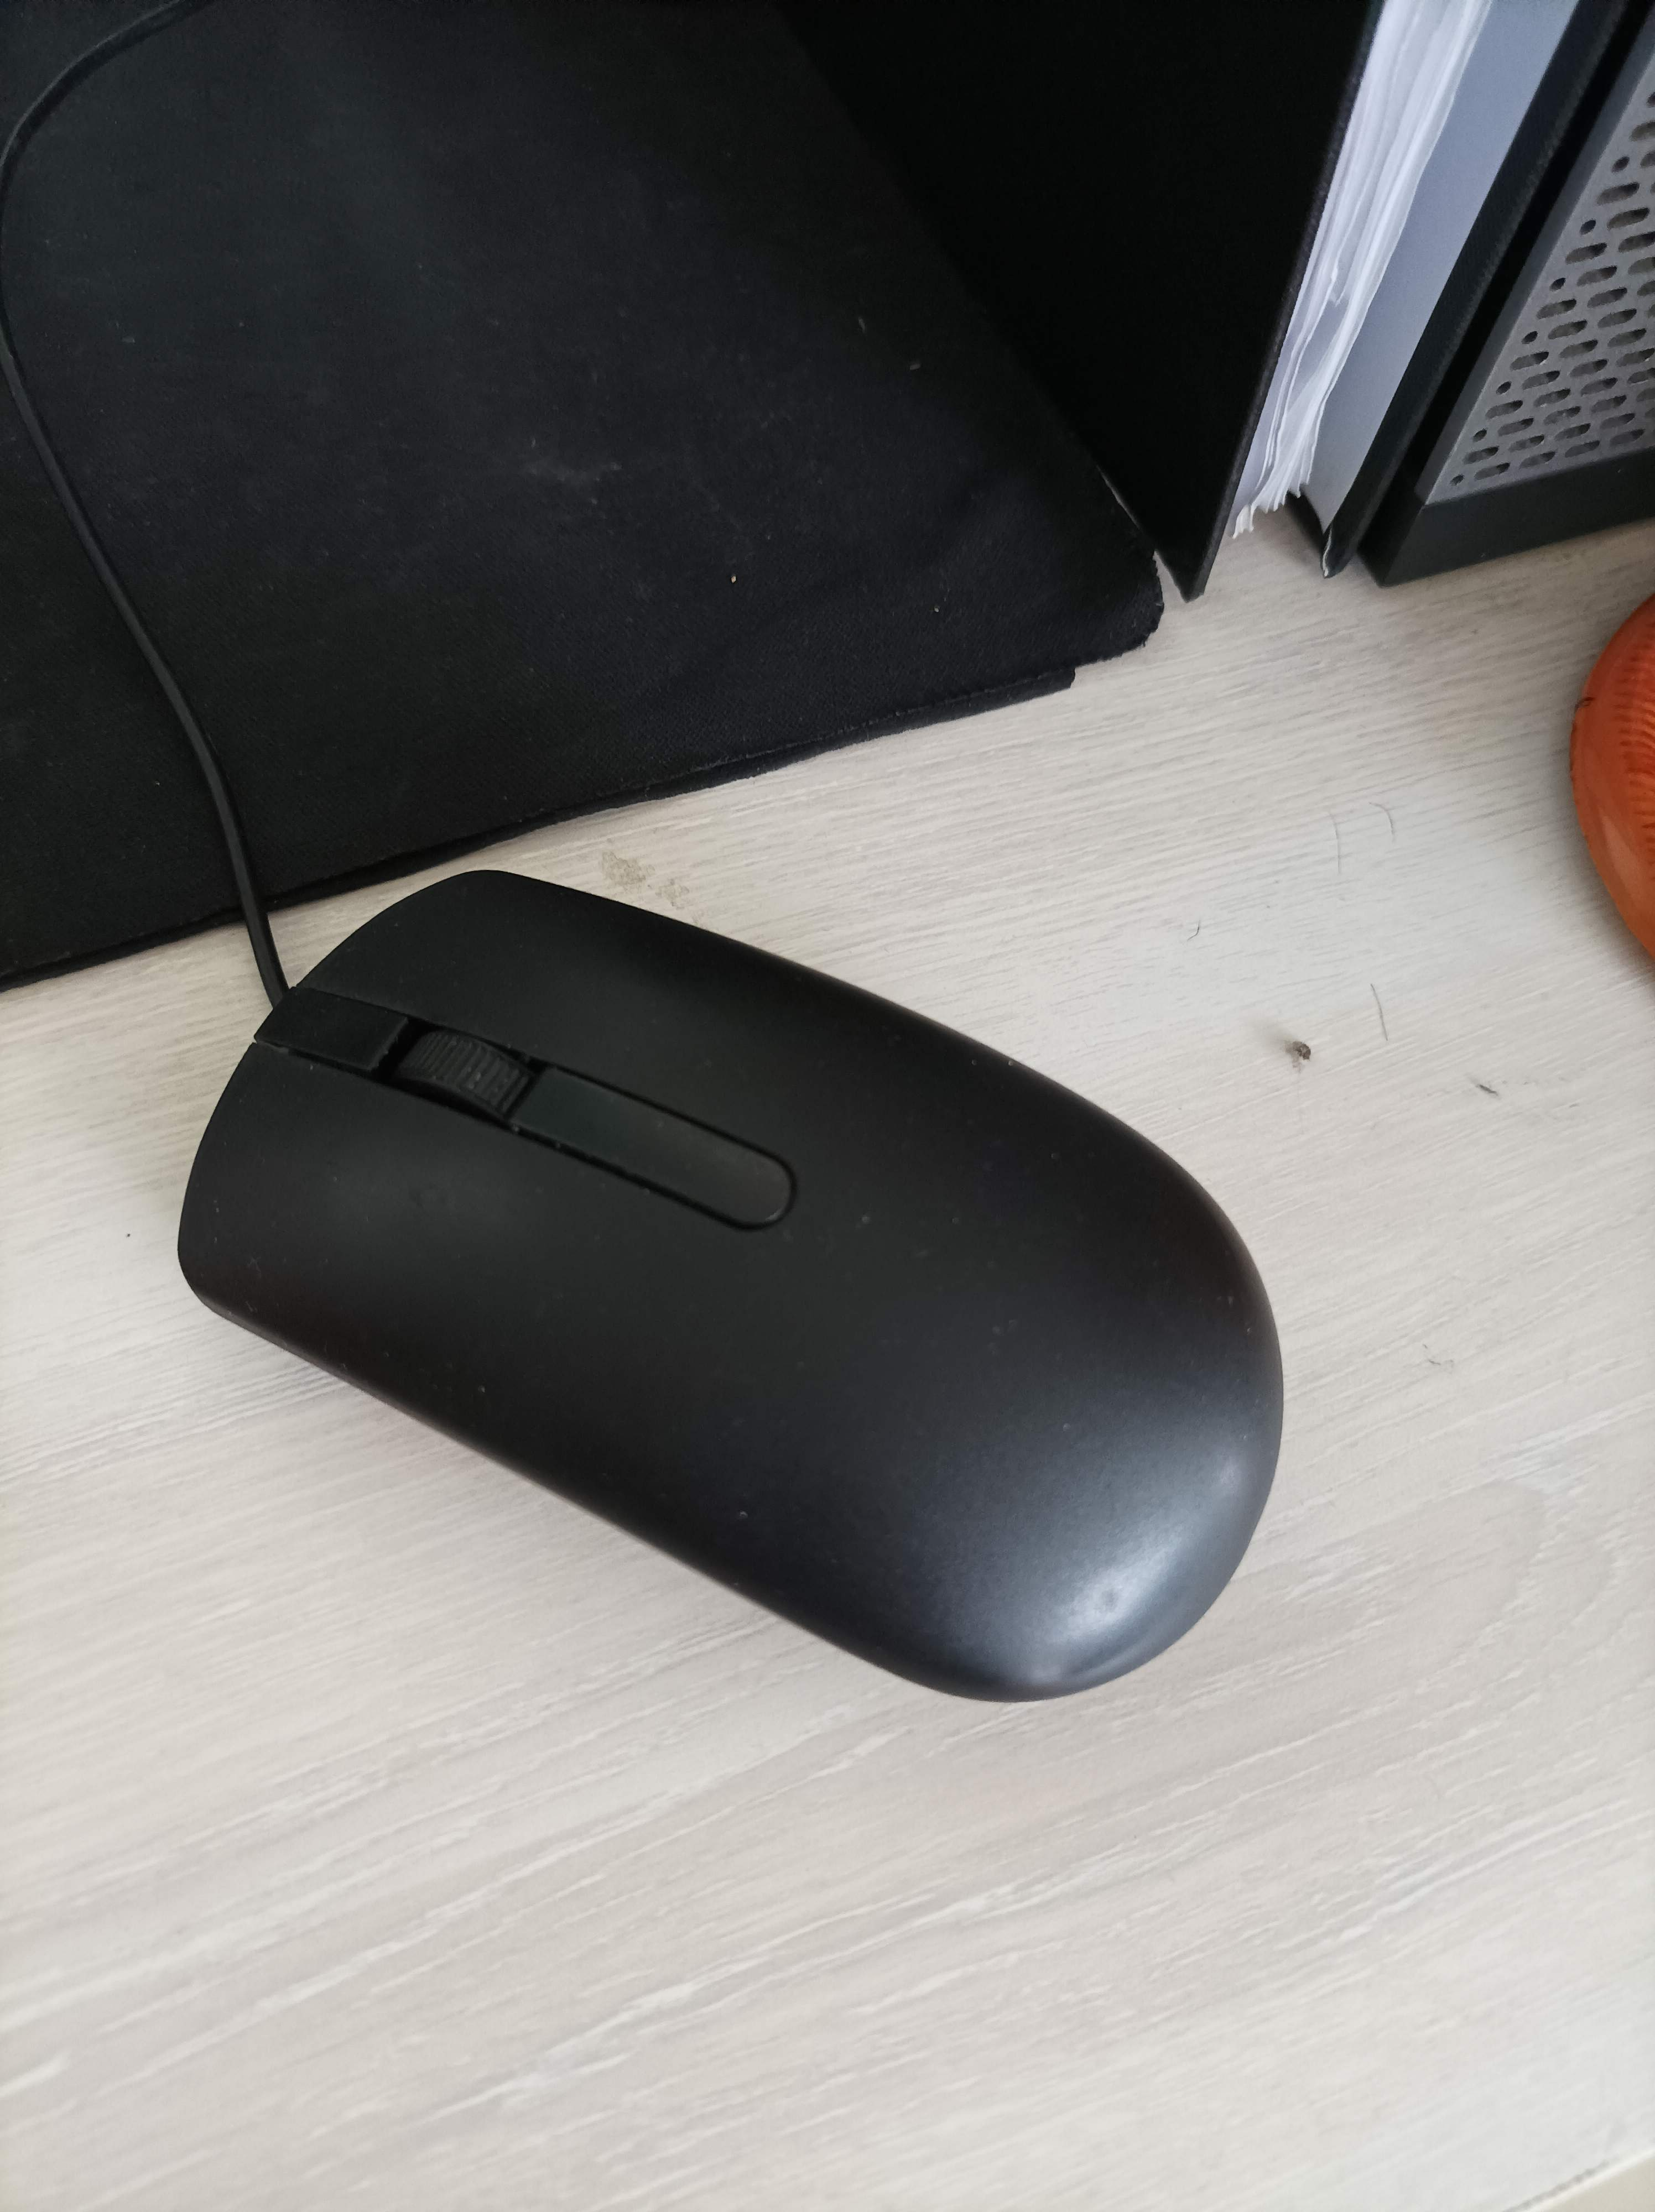mouse: (169, 862, 1300, 1720)
